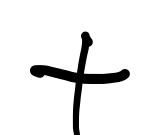plus: (29, 30, 128, 135)
